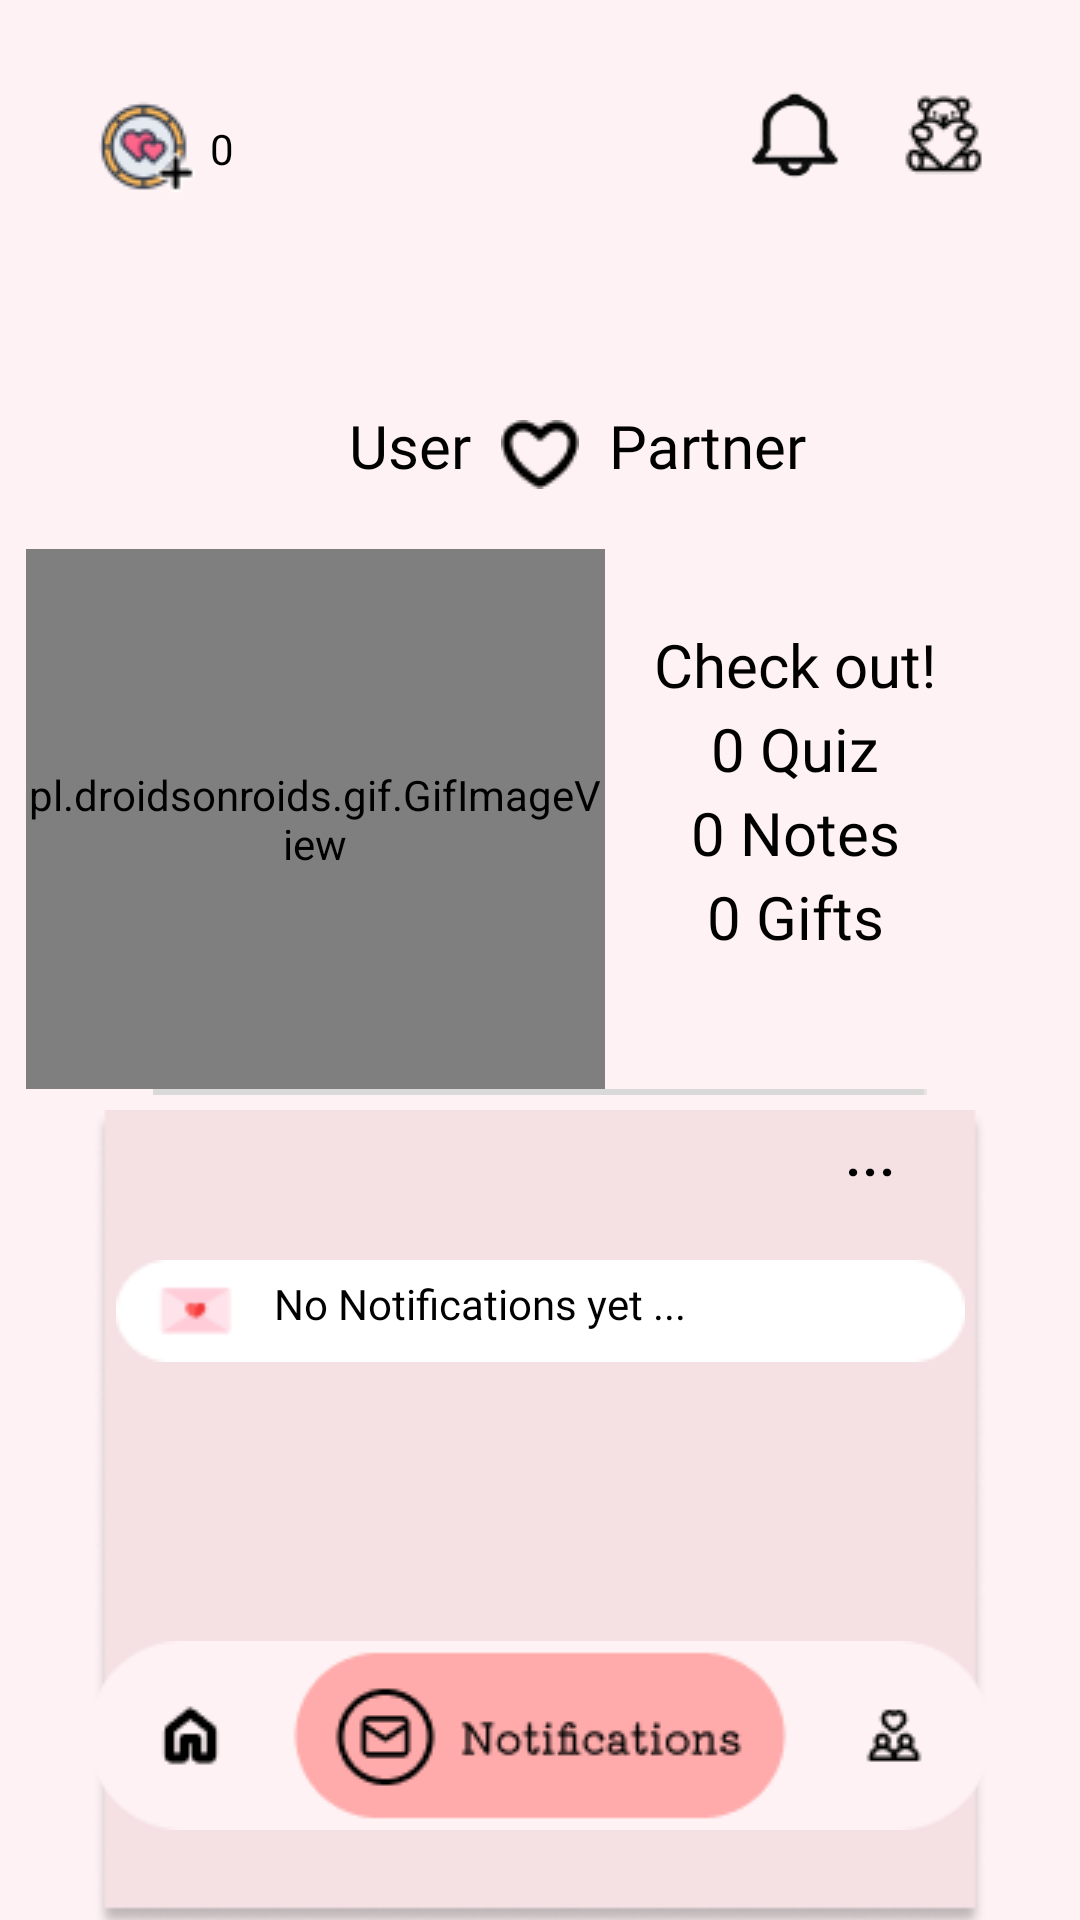

Icon bounding boxes for this 1080w x 1920h phone screenshot, format [left=x1, top=y1, right=x2, bottom=y2]:
love: [left=501, top=420, right=579, bottom=489]
Notification: [left=752, top=93, right=838, bottom=177]
tokens: [left=101, top=103, right=193, bottom=190]
